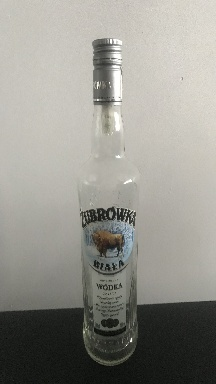butelka: (75, 35, 143, 369)
